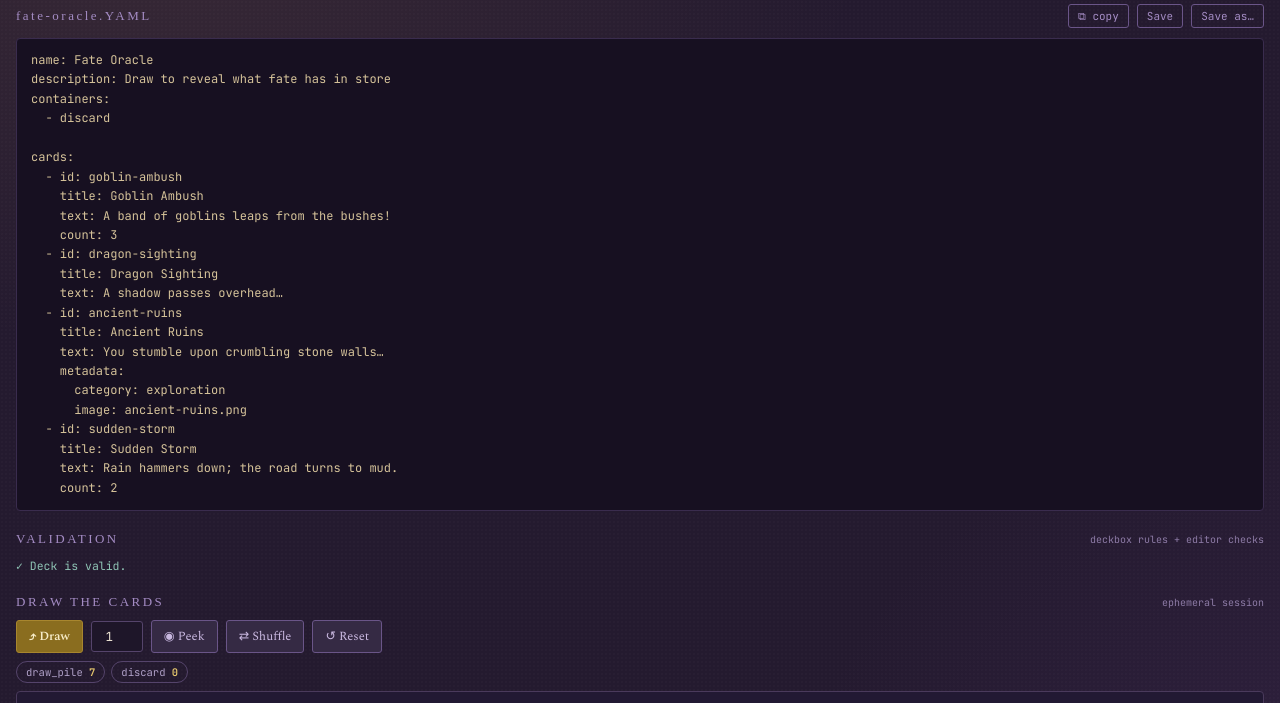
Test: DRAW THE CARDS › peek shows a violet "peek —" title, top-of-deck-first, and moves nothing
Replace the text in the number field with "2" at (117, 637), box [91,621,143,652]
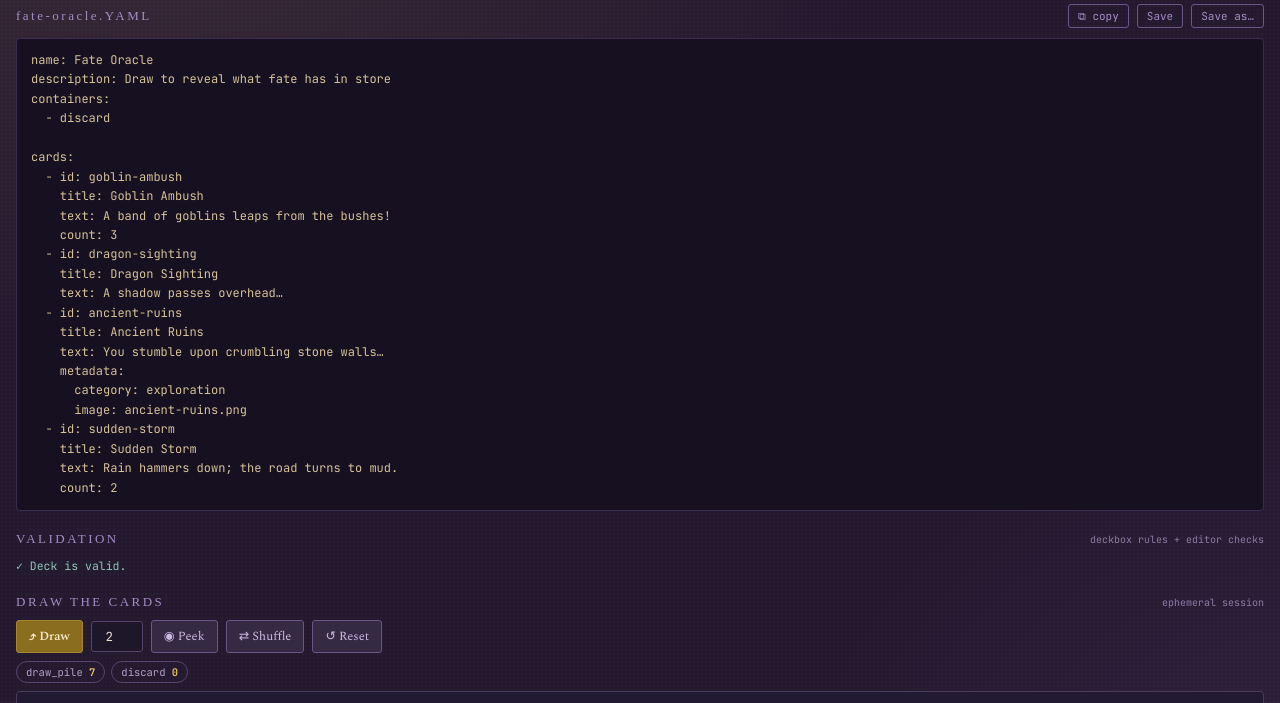
Click the button "◉ Peek".
click(184, 637)  # box [151,620,218,653]
(page scrolled)
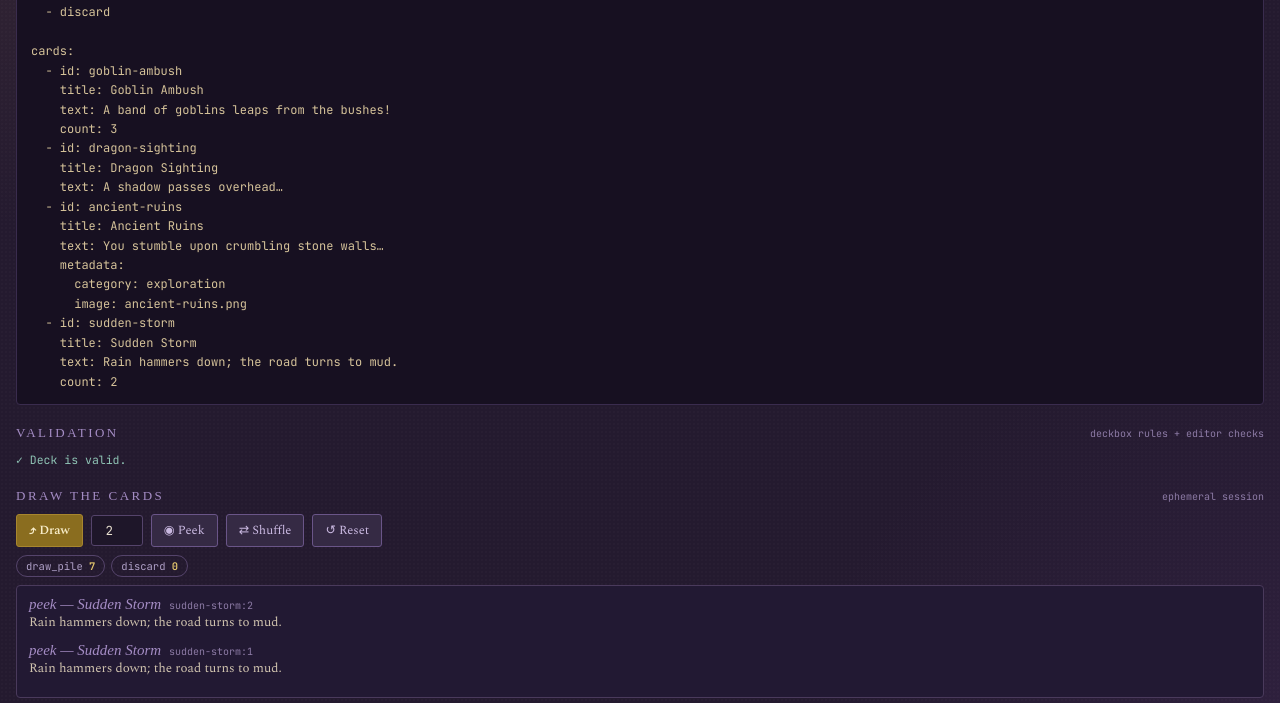
expect the number of elements with test id "output-row" is 2: met, box [29,596,282,632]; [29,642,282,678]
expect the element with test id "output-row" shows "peek — Sudden Storm": met, box [29,596,161,612]
expect the element with test id "output-row" shows "sudden-storm:2": met, box [169,599,253,612]
